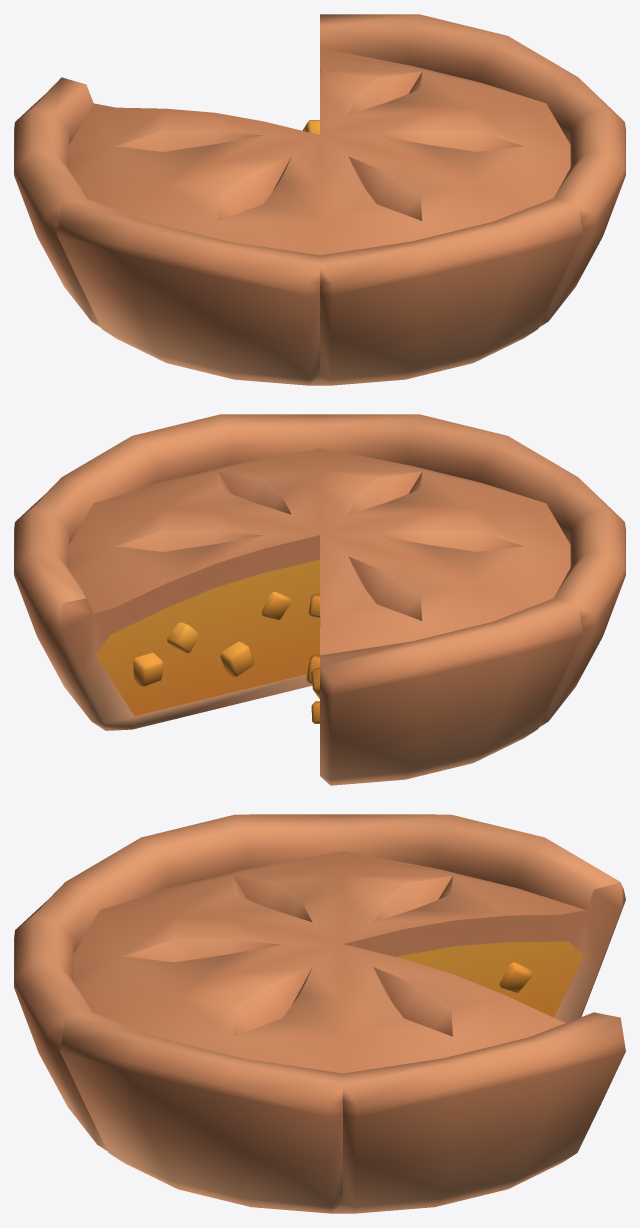
The model's file is pie-apple-cut.glb.
3 views of the same model, one above another, from view 1: azimuth 30°, elevation 25°; view 2: azimuth 150°, elevation 25°; view 3: azimuth 270°, elevation 25° (orthographic). The views are drawn at different scales.
Visible parts, largest first — view 1: pie_apple_cut; view 2: pie_apple_cut; view 3: pie_apple_cut.
Part boxes in pixels (x1,y1,x2,y2): pie_apple_cut: (14, 14, 625, 385); pie_apple_cut: (14, 414, 625, 785); pie_apple_cut: (14, 814, 625, 1213).
Bounding box in the file's own units: 1.16 × 0.3153 × 1.06.
Materials: 1 (1 with a texture image).
